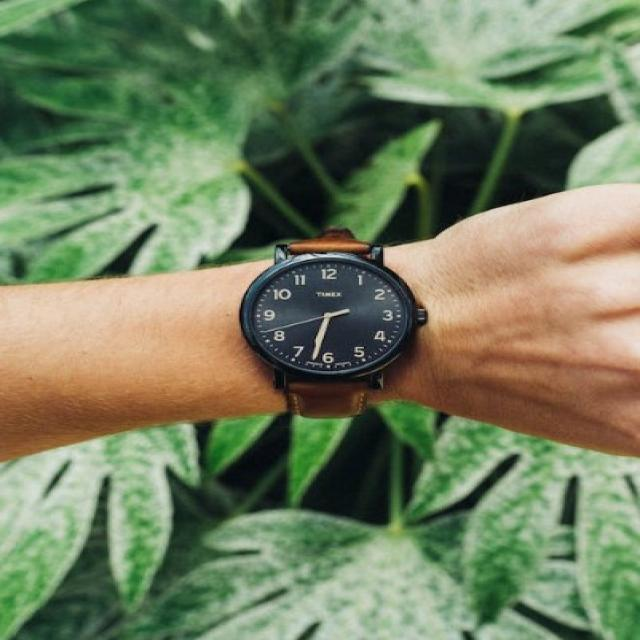Watch: (230, 226, 428, 420)
